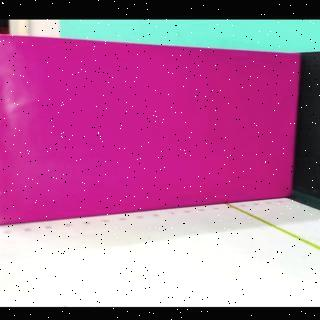xparking: (1, 35, 301, 225)
